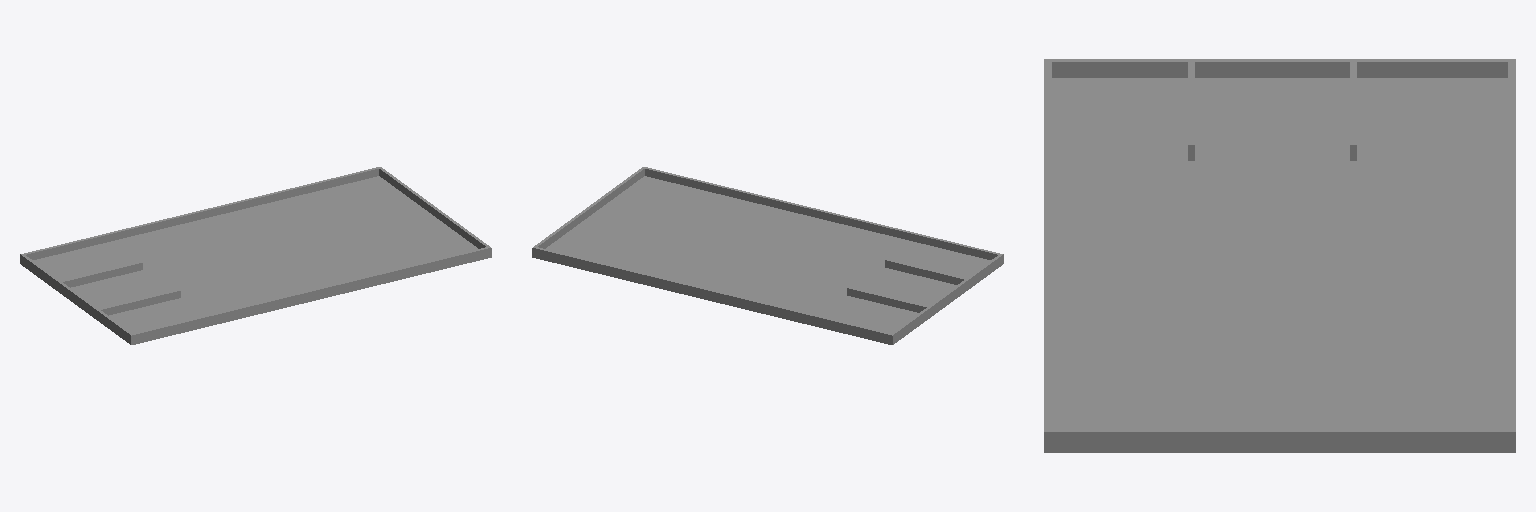
URDF robot description (f3rc2026_map_v2):
<?xml version="1.0" ?>
<!-- =================================================================================== -->
<!-- |    This document was autogenerated by xacro from /home/hao/Ubuntu_3/Robomech/ros2_ws_3_abu2027/src/gazebo_simulator/models/f3rc2026_map_v2/urdf/f3rc2026_map_v2.xacro | -->
<!-- |    EDITING THIS FILE BY HAND IS NOT RECOMMENDED                                 | -->
<!-- =================================================================================== -->
<robot name="f3rc2026_map_v2">
  <material name="silver_default">
    <color rgba="0.700 0.700 0.700 1.000"/>
  </material>
  <material name="_">
    <color rgba="0.6274509803921569 0.6274509803921569 0.6274509803921569 1.0"/>
  </material>
  <link name="base_link">
    <inertial>
      <origin rpy="0 0 0" xyz="2.25 1.2 0.015"/>
      <mass value="2543.3999999999996"/>
      <inertia ixx="1221.022755" ixy="-0.0" ixz="0.0" iyy="4292.178255" iyz="0.0" izz="5512.8195"/>
    </inertial>
    <visual>
      <origin rpy="0 0 0" xyz="0 0 0"/>
      <geometry>
        <mesh filename="package://f3rc2026_map_v2/meshes/base_link.stl" scale="0.001 0.001 0.001"/>
      </geometry>
      <material name="_"/>
    </visual>
    <collision>
      <origin rpy="0 0 0" xyz="0 0 0"/>
      <geometry>
        <mesh filename="package://f3rc2026_map_v2/meshes/base_link.stl" scale="0.001 0.001 0.001"/>
      </geometry>
    </collision>
  </link>
  <link name="2400_v2_1">
    <inertial>
      <origin rpy="0 0 0" xyz="0.0 2.220446049250313e-16 0.04449999999999997"/>
      <mass value="63.71688"/>
      <inertia ixx="30.626161" ixy="0.0" ixz="-0.0" iyy="0.049726" iyz="0.0" izz="30.59177"/>
    </inertial>
    <visual>
      <origin rpy="0 0 0" xyz="-4.481 -1.2 -0.03"/>
      <geometry>
        <mesh filename="package://f3rc2026_map_v2/meshes/2400_v2_1.stl" scale="0.001 0.001 0.001"/>
      </geometry>
      <material name="_"/>
    </visual>
    <collision>
      <origin rpy="0 0 0" xyz="-4.481 -1.2 -0.03"/>
      <geometry>
        <mesh filename="package://f3rc2026_map_v2/meshes/2400_v2_1.stl" scale="0.001 0.001 0.001"/>
      </geometry>
    </collision>
  </link>
  <link name="2400_v2_2">
    <inertial>
      <origin rpy="0 0 0" xyz="1.734723475976807e-17 -6.661338147750939e-16 0.044499999999999984"/>
      <mass value="63.71688"/>
      <inertia ixx="30.626161" ixy="0.0" ixz="0.0" iyy="0.049726" iyz="-0.0" izz="30.59177"/>
    </inertial>
    <visual>
      <origin rpy="0 0 0" xyz="-0.019 -1.2 -0.03"/>
      <geometry>
        <mesh filename="package://f3rc2026_map_v2/meshes/2400_v2_2.stl" scale="0.001 0.001 0.001"/>
      </geometry>
      <material name="_"/>
    </visual>
    <collision>
      <origin rpy="0 0 0" xyz="-0.019 -1.2 -0.03"/>
      <geometry>
        <mesh filename="package://f3rc2026_map_v2/meshes/2400_v2_2.stl" scale="0.001 0.001 0.001"/>
      </geometry>
    </collision>
  </link>
  <link name="4500_v1_1">
    <inertial>
      <origin rpy="0 0 0" xyz="0.0 3.469446951953614e-18 0.0445"/>
      <mass value="119.46915"/>
      <inertia ixx="0.093236" ixy="0.0" ixz="-0.0" iyy="201.68305" iyz="0.0" izz="201.618567"/>
    </inertial>
    <visual>
      <origin rpy="0 0 0" xyz="-2.25 -0.019 -0.03"/>
      <geometry>
        <mesh filename="package://f3rc2026_map_v2/meshes/4500_v1_1.stl" scale="0.001 0.001 0.001"/>
      </geometry>
      <material name="_"/>
    </visual>
    <collision>
      <origin rpy="0 0 0" xyz="-2.25 -0.019 -0.03"/>
      <geometry>
        <mesh filename="package://f3rc2026_map_v2/meshes/4500_v1_1.stl" scale="0.001 0.001 0.001"/>
      </geometry>
    </collision>
  </link>
  <link name="4500_v1_2">
    <inertial>
      <origin rpy="0 0 0" xyz="0.0 0.0 0.0445"/>
      <mass value="119.46915"/>
      <inertia ixx="0.093236" ixy="0.0" ixz="-0.0" iyy="201.68305" iyz="-0.0" izz="201.618567"/>
    </inertial>
    <visual>
      <origin rpy="0 0 0" xyz="-2.25 -2.381 -0.03"/>
      <geometry>
        <mesh filename="package://f3rc2026_map_v2/meshes/4500_v1_2.stl" scale="0.001 0.001 0.001"/>
      </geometry>
      <material name="_"/>
    </visual>
    <collision>
      <origin rpy="0 0 0" xyz="-2.25 -2.381 -0.03"/>
      <geometry>
        <mesh filename="package://f3rc2026_map_v2/meshes/4500_v1_2.stl" scale="0.001 0.001 0.001"/>
      </geometry>
    </collision>
  </link>
  <link name="1000_v2_1">
    <inertial>
      <origin rpy="0 0 0" xyz="0.0 0.0 0.0445"/>
      <mass value="26.548699999999997"/>
      <inertia ixx="0.020719" ixy="-0.0" ixz="-0.0" iyy="2.229916" iyz="0.0" izz="2.215586"/>
    </inertial>
    <visual>
      <origin rpy="0 0 0" xyz="-0.538 -0.75 -0.03"/>
      <geometry>
        <mesh filename="package://f3rc2026_map_v2/meshes/1000_v2_1.stl" scale="0.001 0.001 0.001"/>
      </geometry>
      <material name="_"/>
    </visual>
    <collision>
      <origin rpy="0 0 0" xyz="-0.538 -0.75 -0.03"/>
      <geometry>
        <mesh filename="package://f3rc2026_map_v2/meshes/1000_v2_1.stl" scale="0.001 0.001 0.001"/>
      </geometry>
    </collision>
  </link>
  <link name="1000_v2_2">
    <inertial>
      <origin rpy="0 0 0" xyz="0.0 1.9984014443252818e-15 0.04450000000000043"/>
      <mass value="26.548699999999997"/>
      <inertia ixx="0.020719" ixy="-0.0" ixz="0.0" iyy="2.229916" iyz="-0.0" izz="2.215586"/>
    </inertial>
    <visual>
      <origin rpy="0 0 0" xyz="-0.538 -1.574 -0.03"/>
      <geometry>
        <mesh filename="package://f3rc2026_map_v2/meshes/1000_v2_2.stl" scale="0.001 0.001 0.001"/>
      </geometry>
      <material name="_"/>
    </visual>
    <collision>
      <origin rpy="0 0 0" xyz="-0.538 -1.574 -0.03"/>
      <geometry>
        <mesh filename="package://f3rc2026_map_v2/meshes/1000_v2_2.stl" scale="0.001 0.001 0.001"/>
      </geometry>
    </collision>
  </link>
  <joint name="fixed_joint_1" type="fixed">
    <origin rpy="0 0 0" xyz="4.481 1.2 0.03"/>
    <parent link="base_link"/>
    <child link="2400_v2_1"/>
  </joint>
  <joint name="fixed_joint_2" type="fixed">
    <origin rpy="0 0 0" xyz="0.019 1.2 0.03"/>
    <parent link="base_link"/>
    <child link="2400_v2_2"/>
  </joint>
  <joint name="fixed_joint_3" type="fixed">
    <origin rpy="0 0 0" xyz="2.25 0.019 0.03"/>
    <parent link="base_link"/>
    <child link="4500_v1_1"/>
  </joint>
  <joint name="fixed_joint_4" type="fixed">
    <origin rpy="0 0 0" xyz="2.25 2.381 0.03"/>
    <parent link="base_link"/>
    <child link="4500_v1_2"/>
  </joint>
  <joint name="fixed_joint_5" type="fixed">
    <origin rpy="0 0 0" xyz="0.538 0.75 0.03"/>
    <parent link="base_link"/>
    <child link="1000_v2_1"/>
  </joint>
  <joint name="fixed_joint_6" type="fixed">
    <origin rpy="0 0 0" xyz="0.538 1.574 0.03"/>
    <parent link="base_link"/>
    <child link="1000_v2_2"/>
  </joint>
  <!-- ros2_control plugin config (keep velocity interfaces compatible with existing controllers) -->
  <ros2_control name="GazeboSystem" type="system">
    <hardware>
      <plugin>gz_ros2_control/GazeboSimSystem</plugin>
    </hardware>
  </ros2_control>
  <gazebo>
    <plugin filename="libgz_ros2_control-system.so" name="gz_ros2_control::GazeboSimROS2ControlPlugin">
      <parameters>/home/hao/Ubuntu_3/Robomech/ros2_ws_3_abu2027/install/gazebo_simulator/share/gazebo_simulator/config/controller_f3rc2026_map_v2.yaml</parameters>
    </plugin>
  </gazebo>
  <gazebo>
    <plugin filename="libgz-sim-pose-publisher-system.so" name="gz::sim::systems::PosePublisher">
      <publish_link_pose>true</publish_link_pose>
      <publish_model_pose>true</publish_model_pose>
      <use_pose_vector_msg>true</use_pose_vector_msg>
      <update_frequency>50</update_frequency>
    </plugin>
  </gazebo>
</robot>

--- Facts derived from the render (not from the file) ---
Views: 3 orthographic renders of the robot side by side, from view 1: azimuth 30°, elevation 25°; view 2: azimuth 150°, elevation 25°; view 3: azimuth 270°, elevation 25°.
Robot: f3rc2026_map_v2 — 7 links, 6 joints (6 fixed); root link base_link; default pose: all joints at 0.
Visible links, largest first — view 1: base_link, 4500_v1_1, 4500_v1_2, 2400_v2_2, 2400_v2_1, 1000_v2_1, 1000_v2_2; view 2: base_link, 4500_v1_2, 4500_v1_1, 2400_v2_2, 2400_v2_1, 1000_v2_1, 1000_v2_2; view 3: base_link, 2400_v2_1, 2400_v2_2, 4500_v1_2, 4500_v1_1, 1000_v2_1, 1000_v2_2.
Link boxes in pixels (<box>): base_link: <box>20,176,491,344</box>; 4500_v1_1: <box>130,246,491,342</box>; 4500_v1_2: <box>20,167,381,260</box>; 2400_v2_2: <box>20,254,133,342</box>; 2400_v2_1: <box>379,168,491,254</box>; 1000_v2_1: <box>100,289,180,315</box>; 1000_v2_2: <box>62,261,142,287</box>; base_link: <box>532,176,1003,344</box>; 4500_v1_2: <box>533,246,893,342</box>; 4500_v1_1: <box>642,167,1003,262</box>; 2400_v2_2: <box>890,254,1003,342</box>; 2400_v2_1: <box>532,167,644,254</box>; 1000_v2_1: <box>885,259,965,284</box>; 1000_v2_2: <box>847,287,927,312</box>; base_link: <box>1044,78,1515,452</box>; 2400_v2_1: <box>1044,429,1515,447</box>; 2400_v2_2: <box>1044,59,1515,77</box>; 4500_v1_2: <box>1508,59,1515,447</box>; 4500_v1_1: <box>1044,59,1051,445</box>; 1000_v2_1: <box>1188,62,1194,160</box>; 1000_v2_2: <box>1350,62,1356,160</box>.
Size in the robot's own frame: 4.5 by 2.4 by 0.119 metres.
Meshes: 7 distinct files referenced, 7 mesh visuals loaded (7 binary STL).
